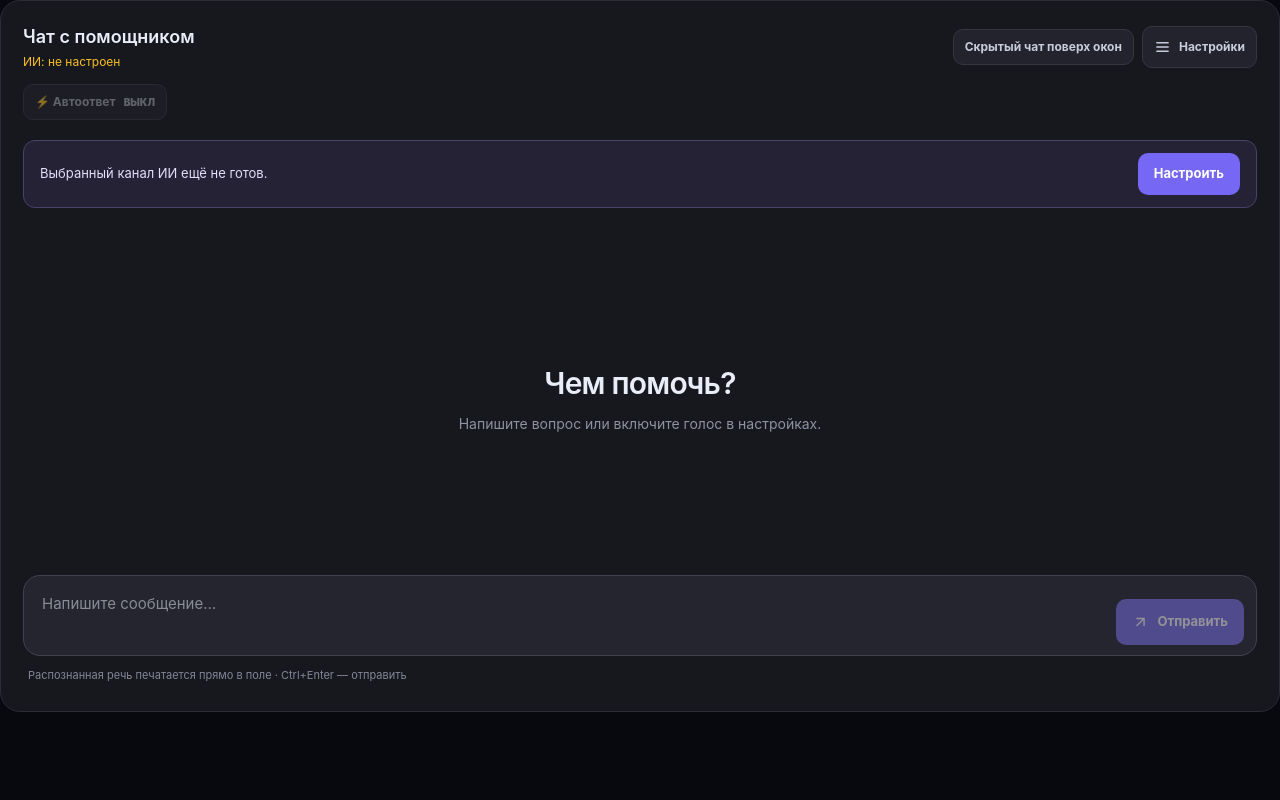
Test case: renders streamed answer deltas before the request completes
In the text box named "Вопрос ИИ": [570, 616] box [36,586,1104,645], type "Проверка потока"
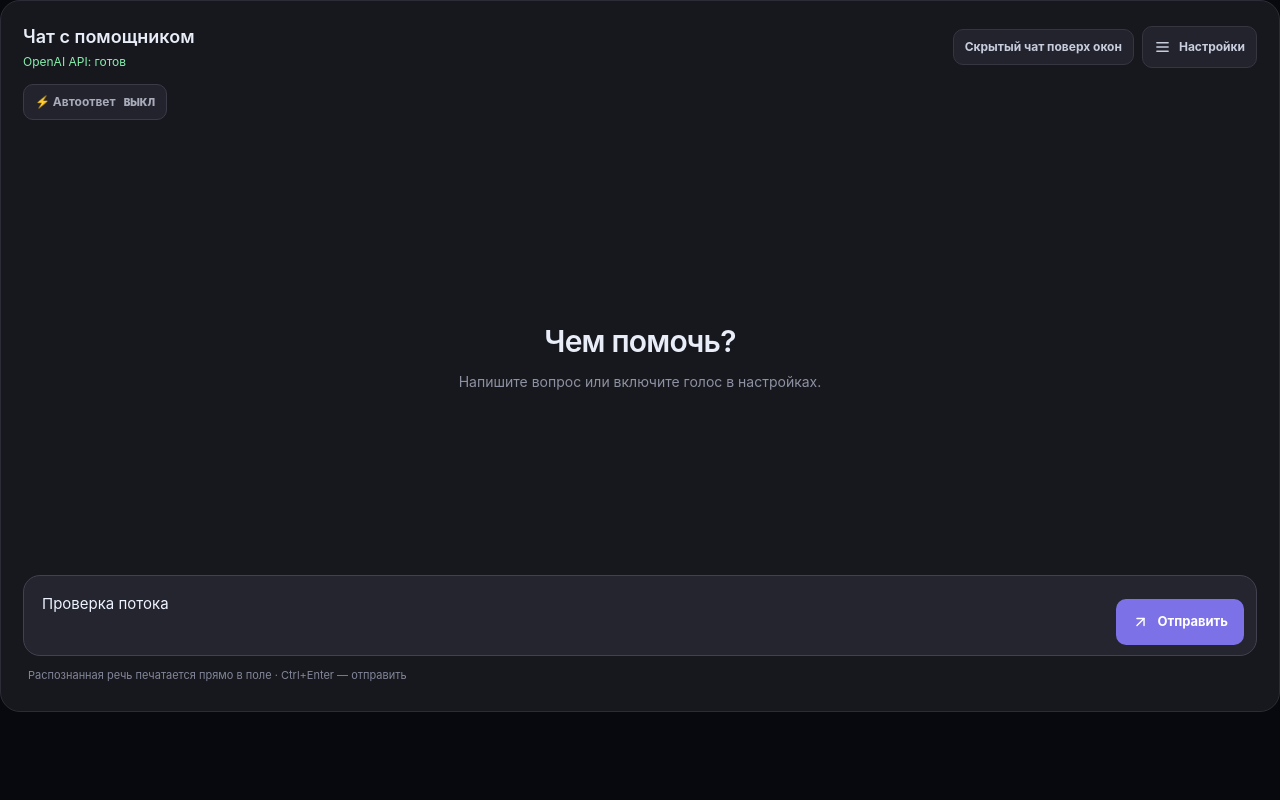
Check: the button with aria-label "Получить ответ" is enabled
Click the button with aria-label "Получить ответ": [1180, 622] box [1116,599,1244,645]
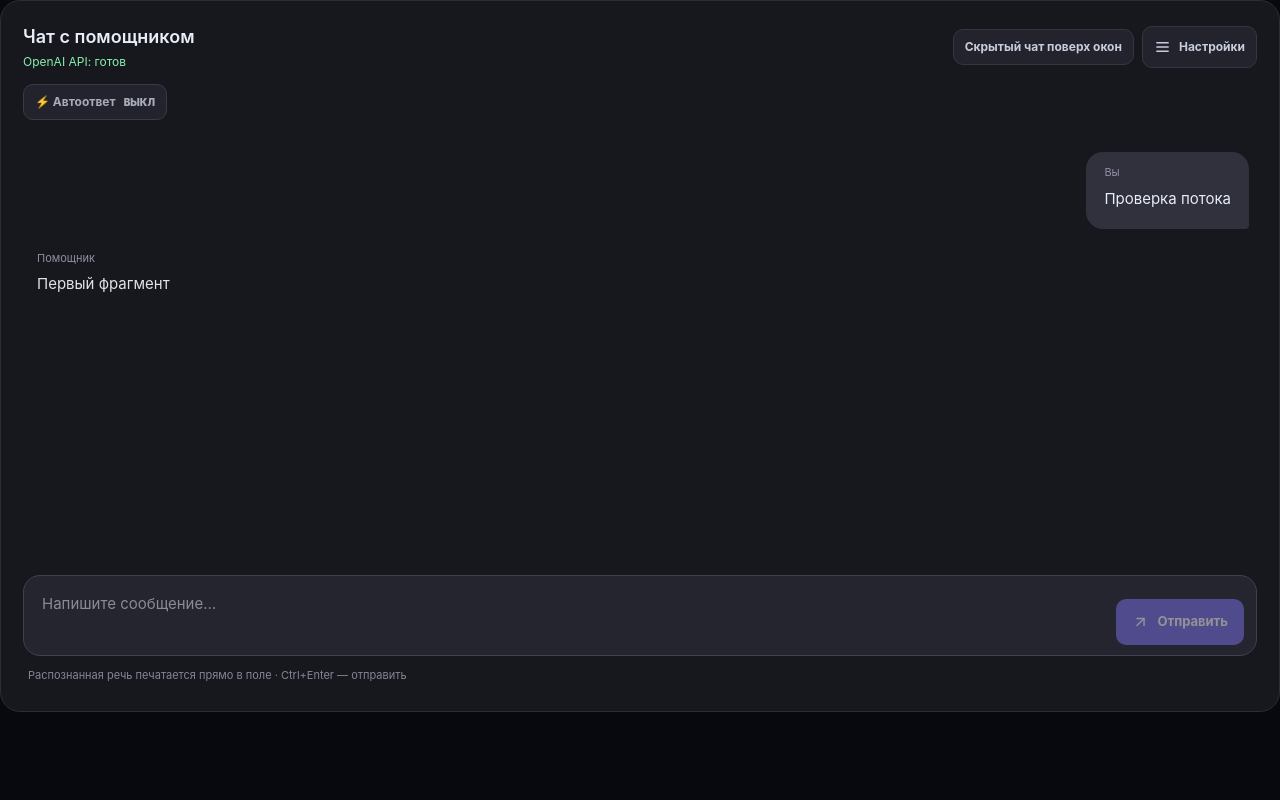
Check: the text "Первый фрагмент" is shown, box [37,271,170,298]
